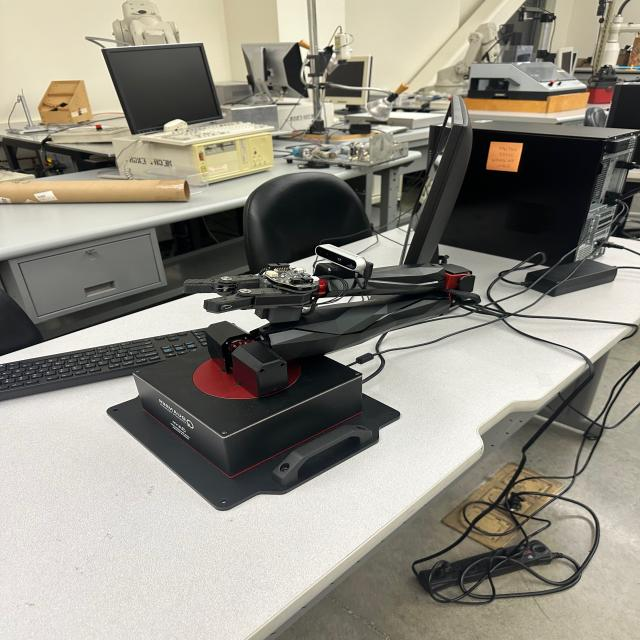monitor: (392, 91, 490, 274), (97, 40, 220, 142), (242, 40, 305, 105), (305, 53, 368, 106)
robotic-arm: (176, 238, 493, 399)
